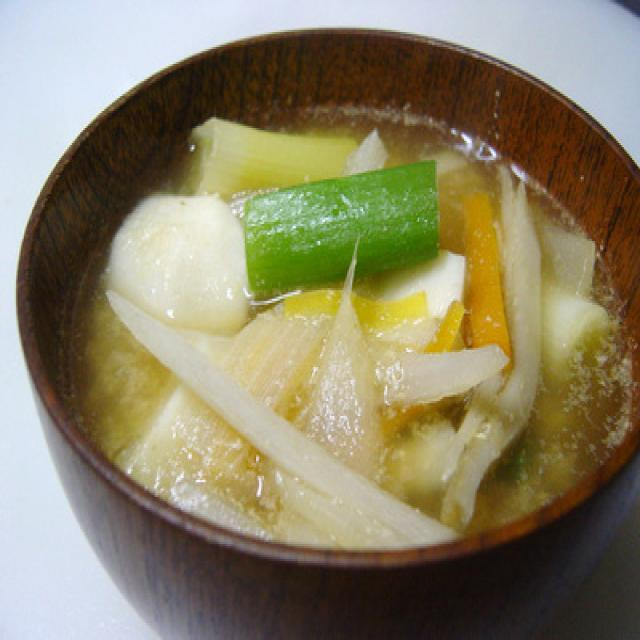蔬菜料理: (5, 0, 638, 640)
